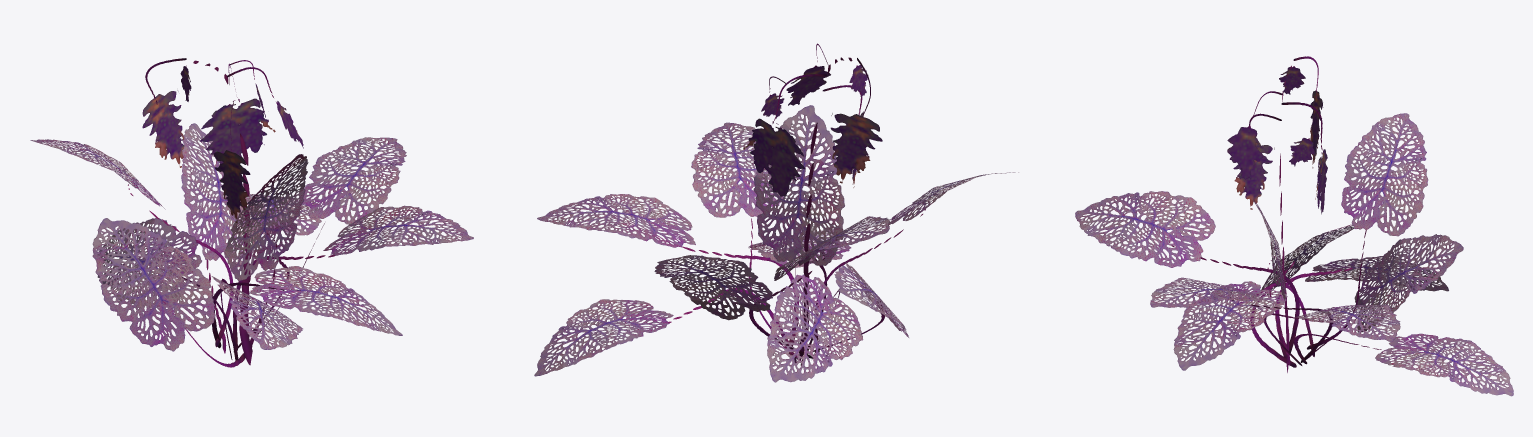
The model's file is Spin Reef C7.fbx.
The picture shows the model from 3 angles, left to right: view 1: azimuth 30°, elevation 25°; view 2: azimuth 150°, elevation 25°; view 3: azimuth 270°, elevation 25°; orthographic projection. The views are drawn at different scales.
Parts seen in each view (by area): view 1: Spin Reef C7; view 2: Spin Reef C7; view 3: Spin Reef C7.
Part boxes in pixels (x1=…): Spin Reef C7: x1=30, y1=58, x2=473, y2=367; Spin Reef C7: x1=534, y1=43, x2=1018, y2=382; Spin Reef C7: x1=1075, y1=56, x2=1513, y2=396.
Bounding box in the file's own units: 194 × 206 × 220.
